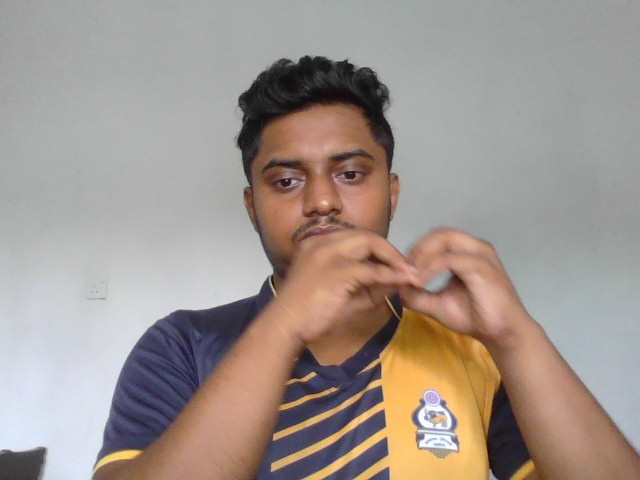More: (280, 222, 527, 353)
